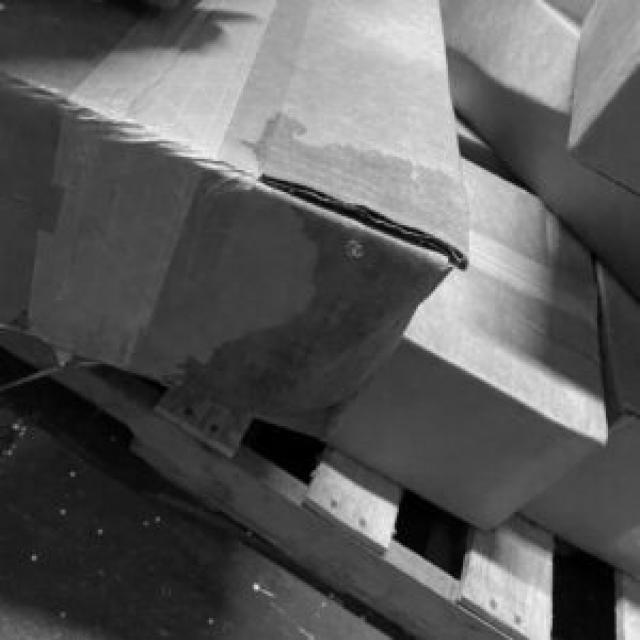hole: (233, 406, 338, 494)
wet: (213, 105, 467, 477)
